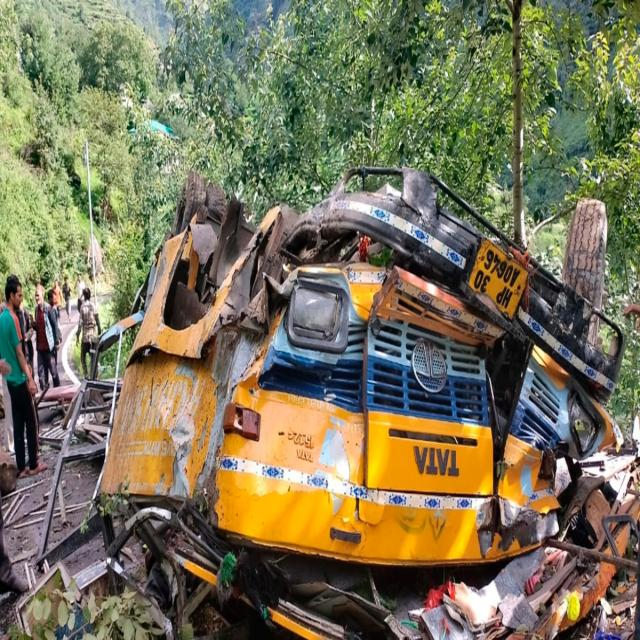accident: (39, 167, 640, 638)
